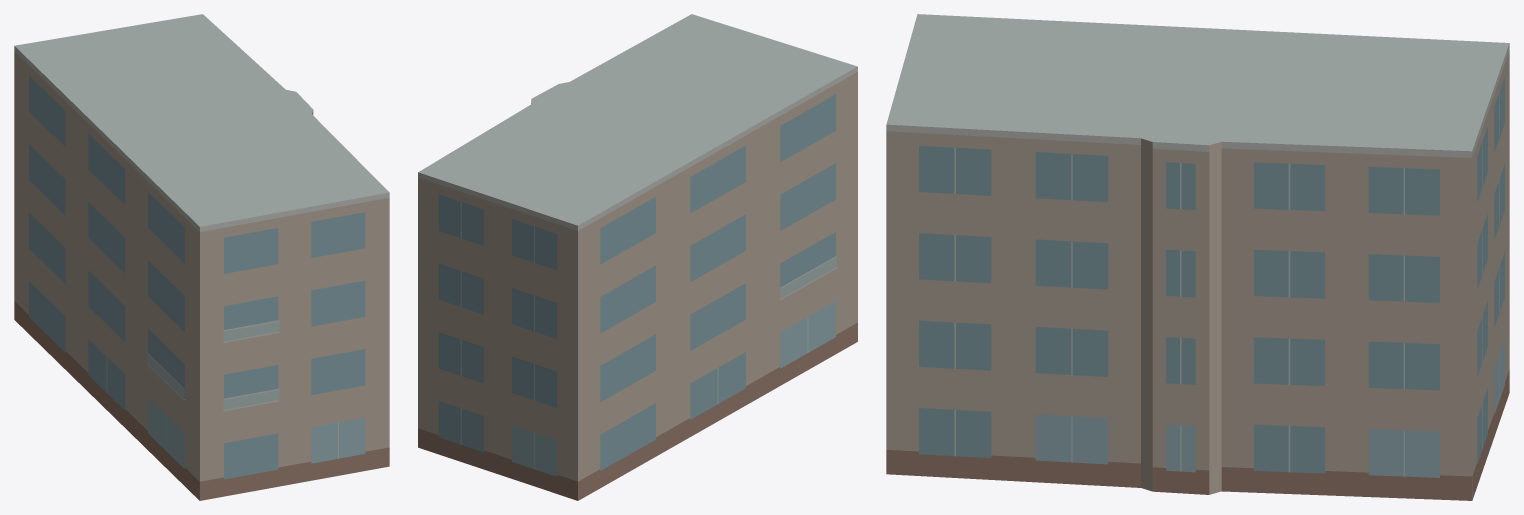
The model's file is survey-upis-32566194.glb.
3 views of the same model, side by side, from view 1: azimuth 30°, elevation 25°; view 2: azimuth 150°, elevation 25°; view 3: azimuth 270°, elevation 25° (orthographic). The views are drawn at different scales.
Parts seen in each view (by area): view 1: survey-upis-32566194.tmp; view 2: survey-upis-32566194.tmp; view 3: survey-upis-32566194.tmp.
Boxes of the visible parts, x1=… form: survey-upis-32566194.tmp: x1=14, y1=14, x2=389, y2=500; survey-upis-32566194.tmp: x1=418, y1=14, x2=857, y2=500; survey-upis-32566194.tmp: x1=886, y1=14, x2=1509, y2=500.
Bounding box in the file's own units: 10.78 × 12.8 × 20.69.
